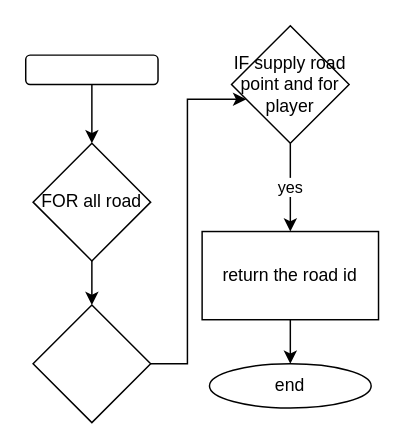
Some shapes in this 404 by 448 pixel diagram are drawn without their labels. The shapes that lost their labels are listed below. From the top down, each one's centre as x and y in pixels, then its label:
At [91,69]: "start".
At [91,363]: "FOR road points".
